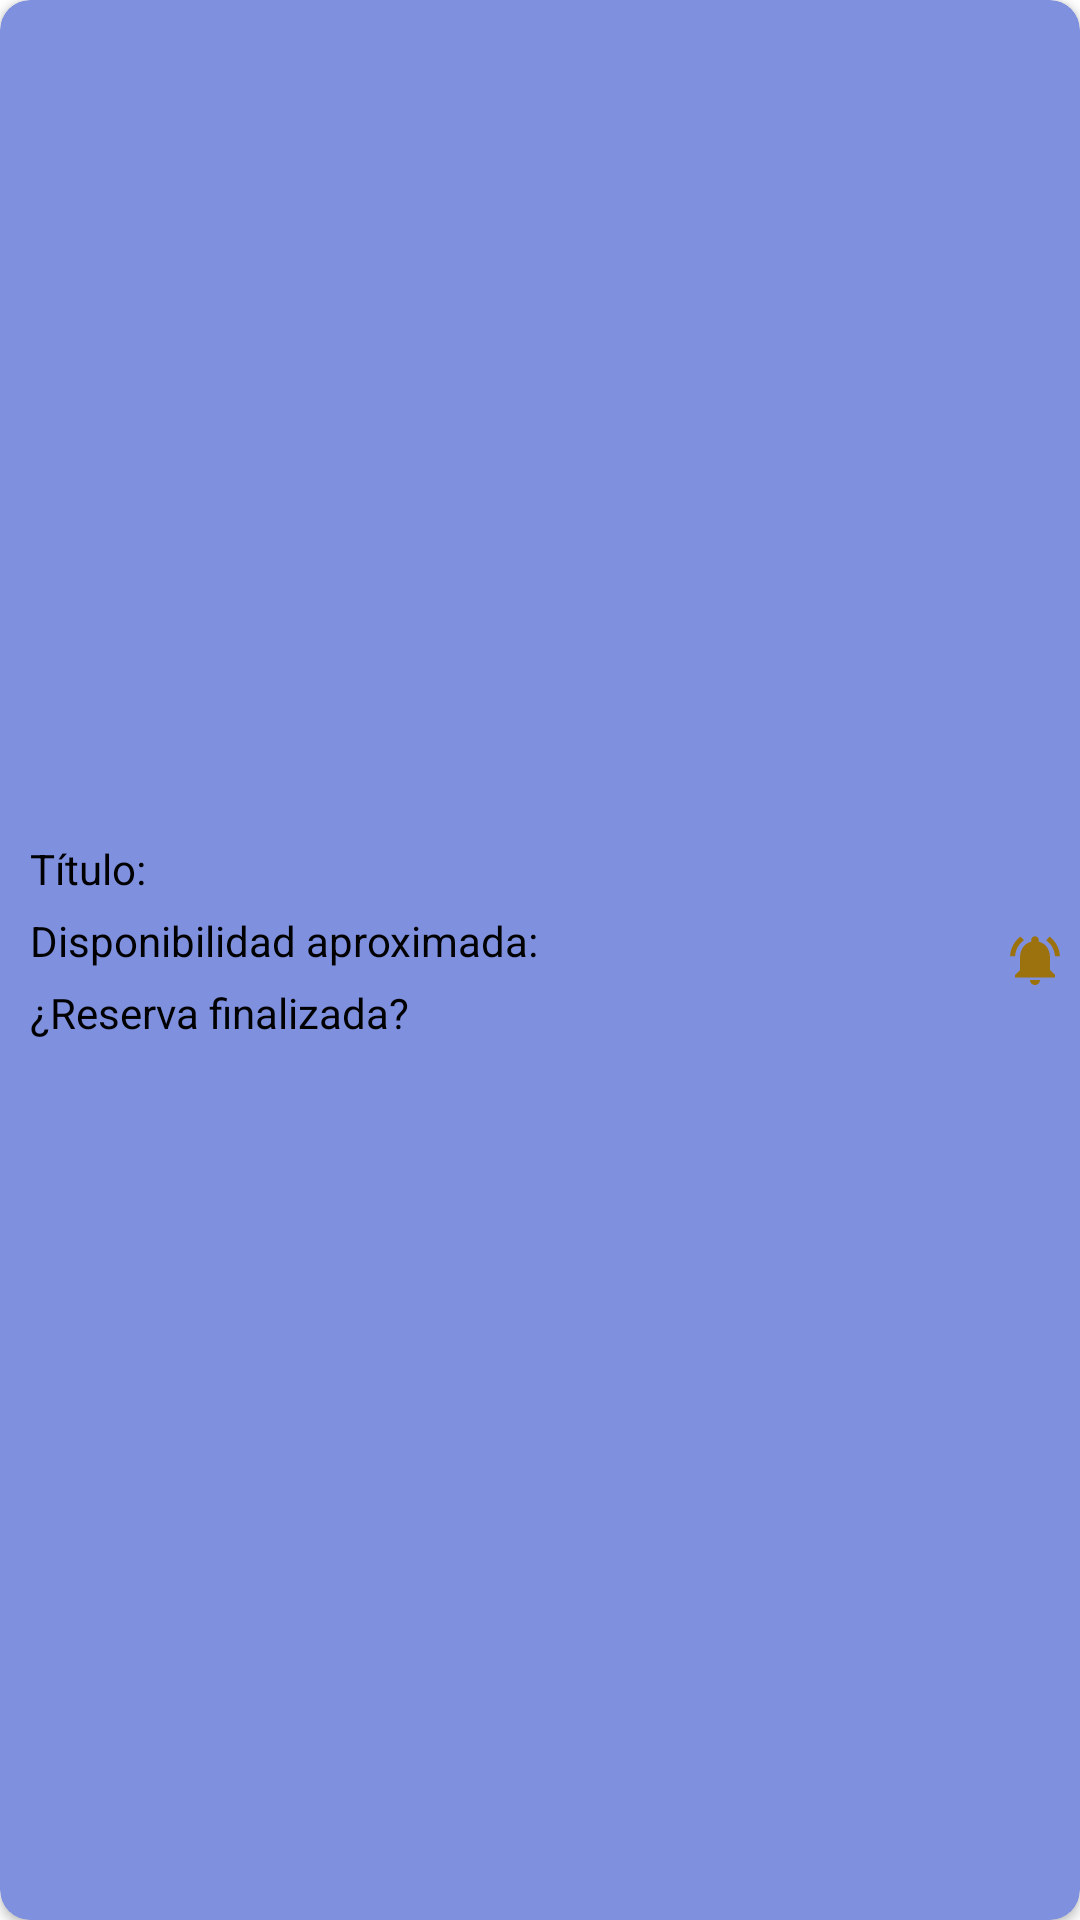

Named icons in this screenshot (1080 × 1920) and their bounding boxes, (x1,y1,x2,y2):
notification: (1010,936,1060,985)
